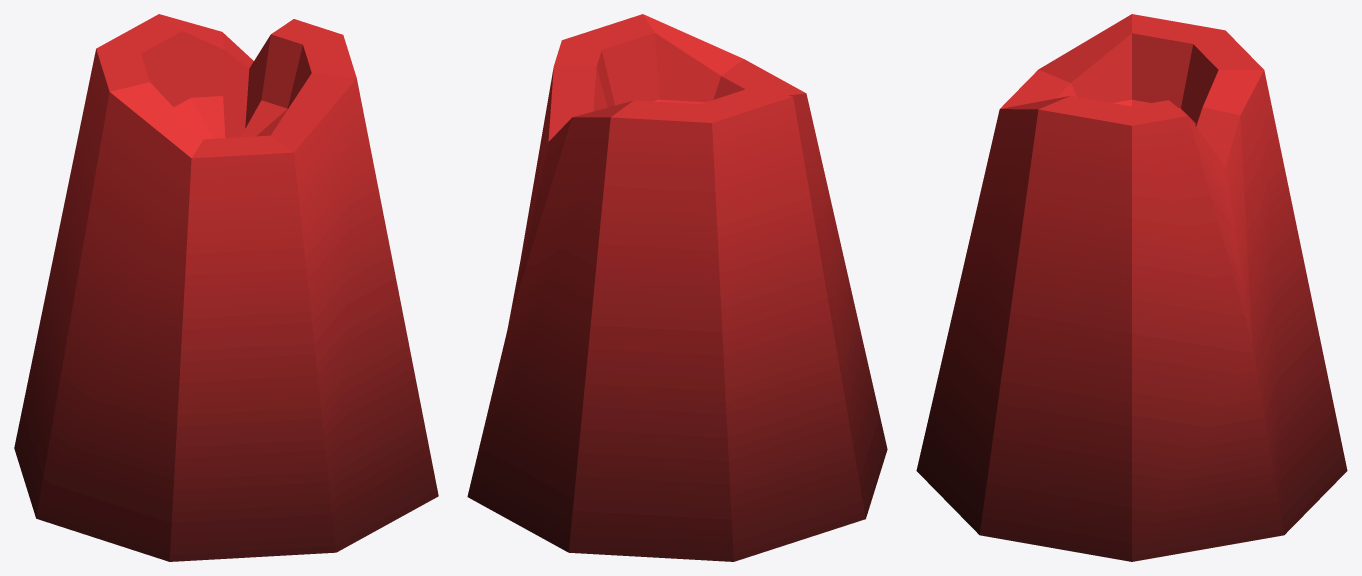
The model's file is PL002_Volcanic02.FBX.
3 renders of one model, left to right at view 1: azimuth 30°, elevation 25°; view 2: azimuth 150°, elevation 25°; view 3: azimuth 270°, elevation 25°, orthographic.
Parts seen in each view (by area): view 1: PL002_Volcanic02; view 2: PL002_Volcanic02; view 3: PL002_Volcanic02.
Part boxes in pixels (box(x1,y1,x2,y2)): PL002_Volcanic02: box(14, 14, 438, 561); PL002_Volcanic02: box(467, 14, 887, 561); PL002_Volcanic02: box(916, 14, 1347, 561).
Bounding box in the file's own units: 273 × 280 × 273.
Materials: 1 (1 with a texture image).
